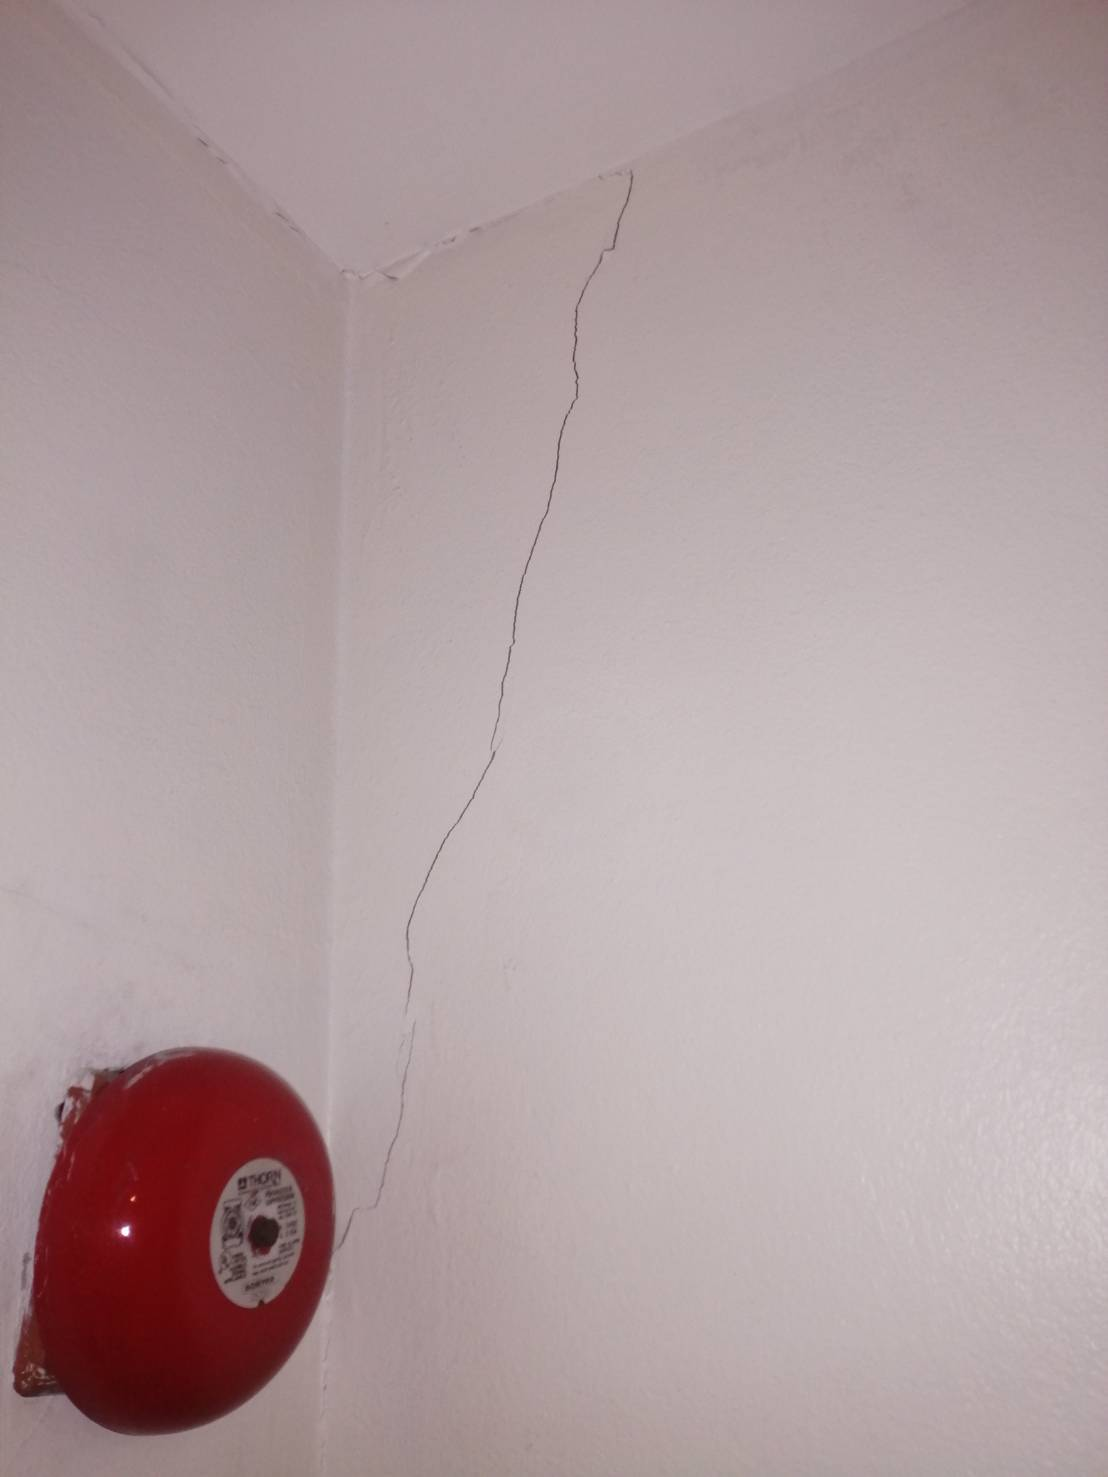Low: (332, 145, 699, 1262)
